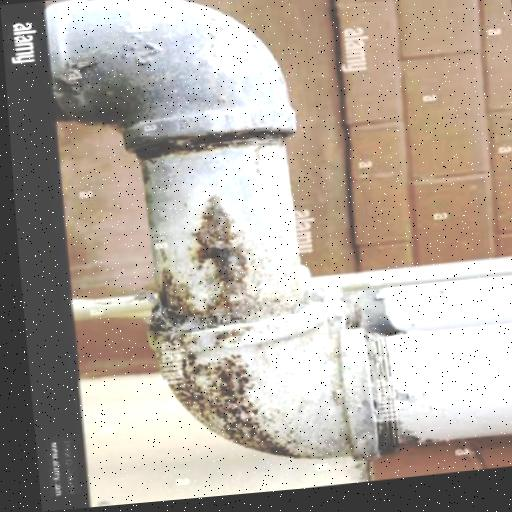corrosion: (148, 196, 266, 451)
